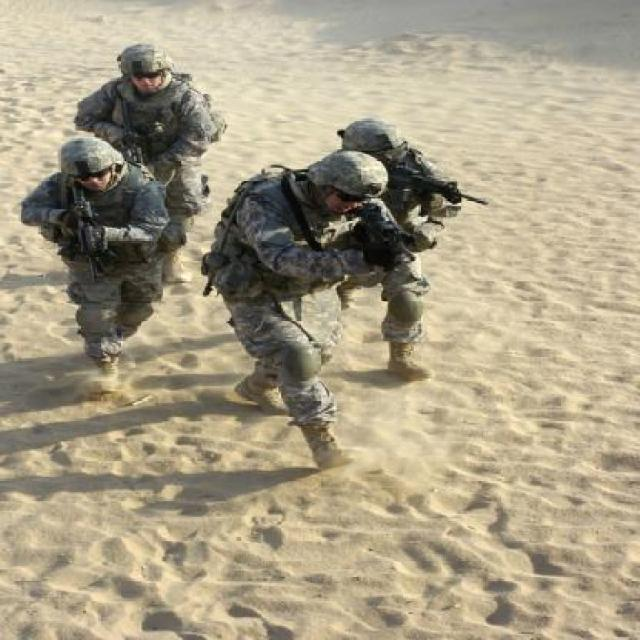Person: (18, 136, 170, 395), (71, 40, 226, 288), (321, 117, 461, 381)
